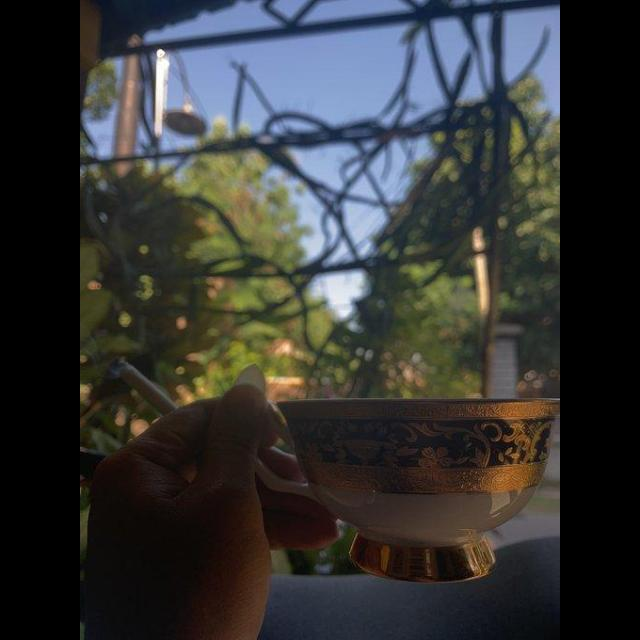rokok: (111, 354, 187, 412)
